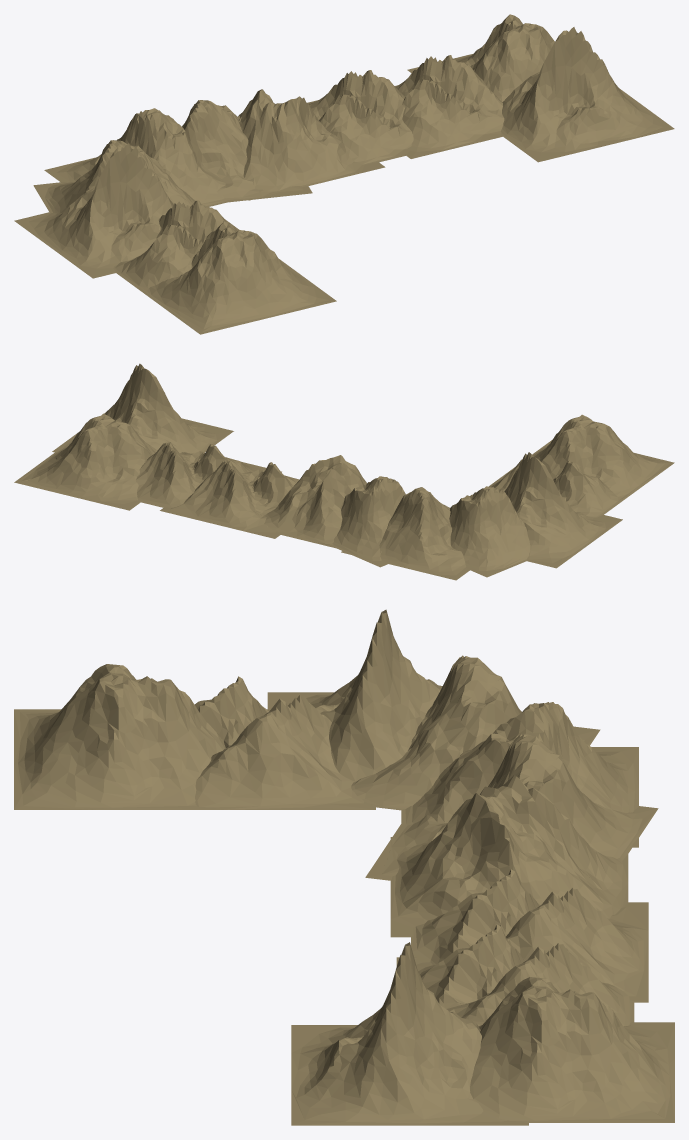
Rendered from SM_Montañas.fbx.
3 renders of one model, top to bottom at view 1: azimuth 30°, elevation 25°; view 2: azimuth 150°, elevation 25°; view 3: azimuth 270°, elevation 25°, orthographic. The views are drawn at different scales.
Parts seen in each view (by area): view 1: Montañas; view 2: Montañas; view 3: Montañas.
Boxes of the visible parts, x1,y1,x2,y2 form: Montañas: [14, 14, 674, 334]; Montañas: [14, 363, 674, 580]; Montañas: [14, 609, 674, 1125].
Size of the model in its own units: 25546 by 3722 by 16477.
